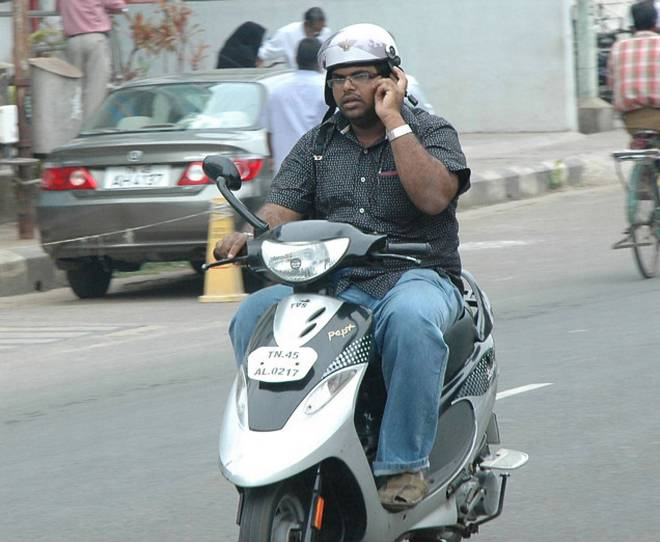NumberPlate: (248, 347, 318, 386)
vehicle: (213, 234, 379, 542)
